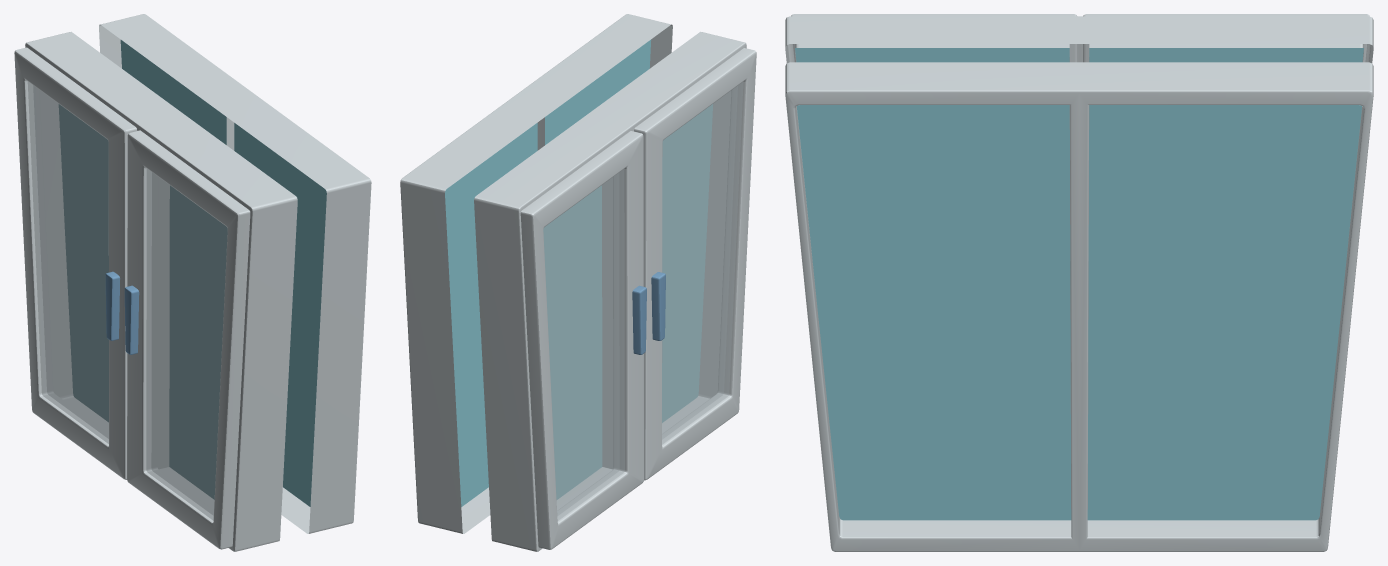
File: RaamEnkelGlasKunstof_Variatie_1.fbx
3 views of the same model, side by side, from view 1: azimuth 30°, elevation 25°; view 2: azimuth 150°, elevation 25°; view 3: azimuth 270°, elevation 25° (orthographic). The views are drawn at different scales.
Visible parts, largest first — view 1: RaamEnkelGlasKunstof_Variatie_1; view 2: RaamEnkelGlasKunstof_Variatie_1; view 3: RaamEnkelGlasKunstof_Variatie_1.
Part boxes in pixels (<box>): RaamEnkelGlasKunstof_Variatie_1: <box>14,14,371,551</box>; RaamEnkelGlasKunstof_Variatie_1: <box>400,14,756,551</box>; RaamEnkelGlasKunstof_Variatie_1: <box>785,14,1373,551</box>.
Size of the model in its own units: 1.27 by 3.1 by 3.58.
